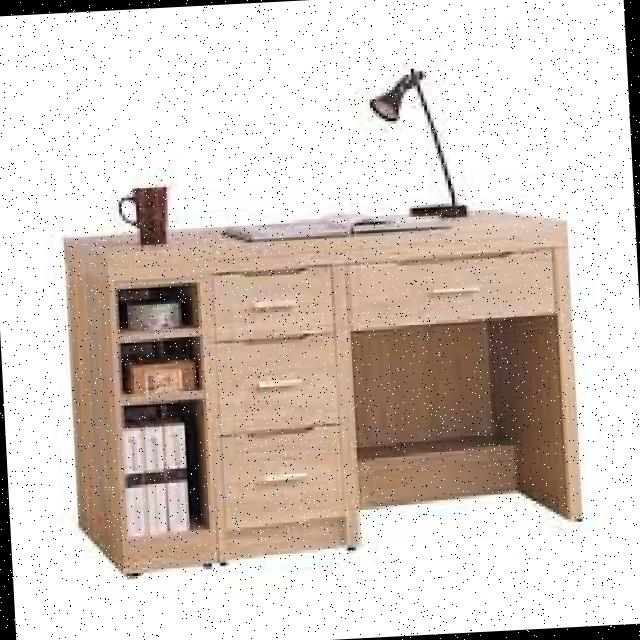Table: (54, 126, 600, 590)
